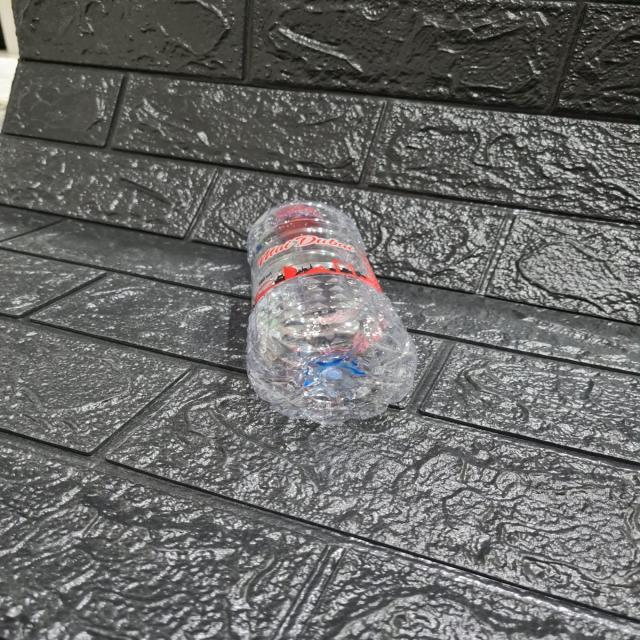chai: (246, 202, 415, 424)
